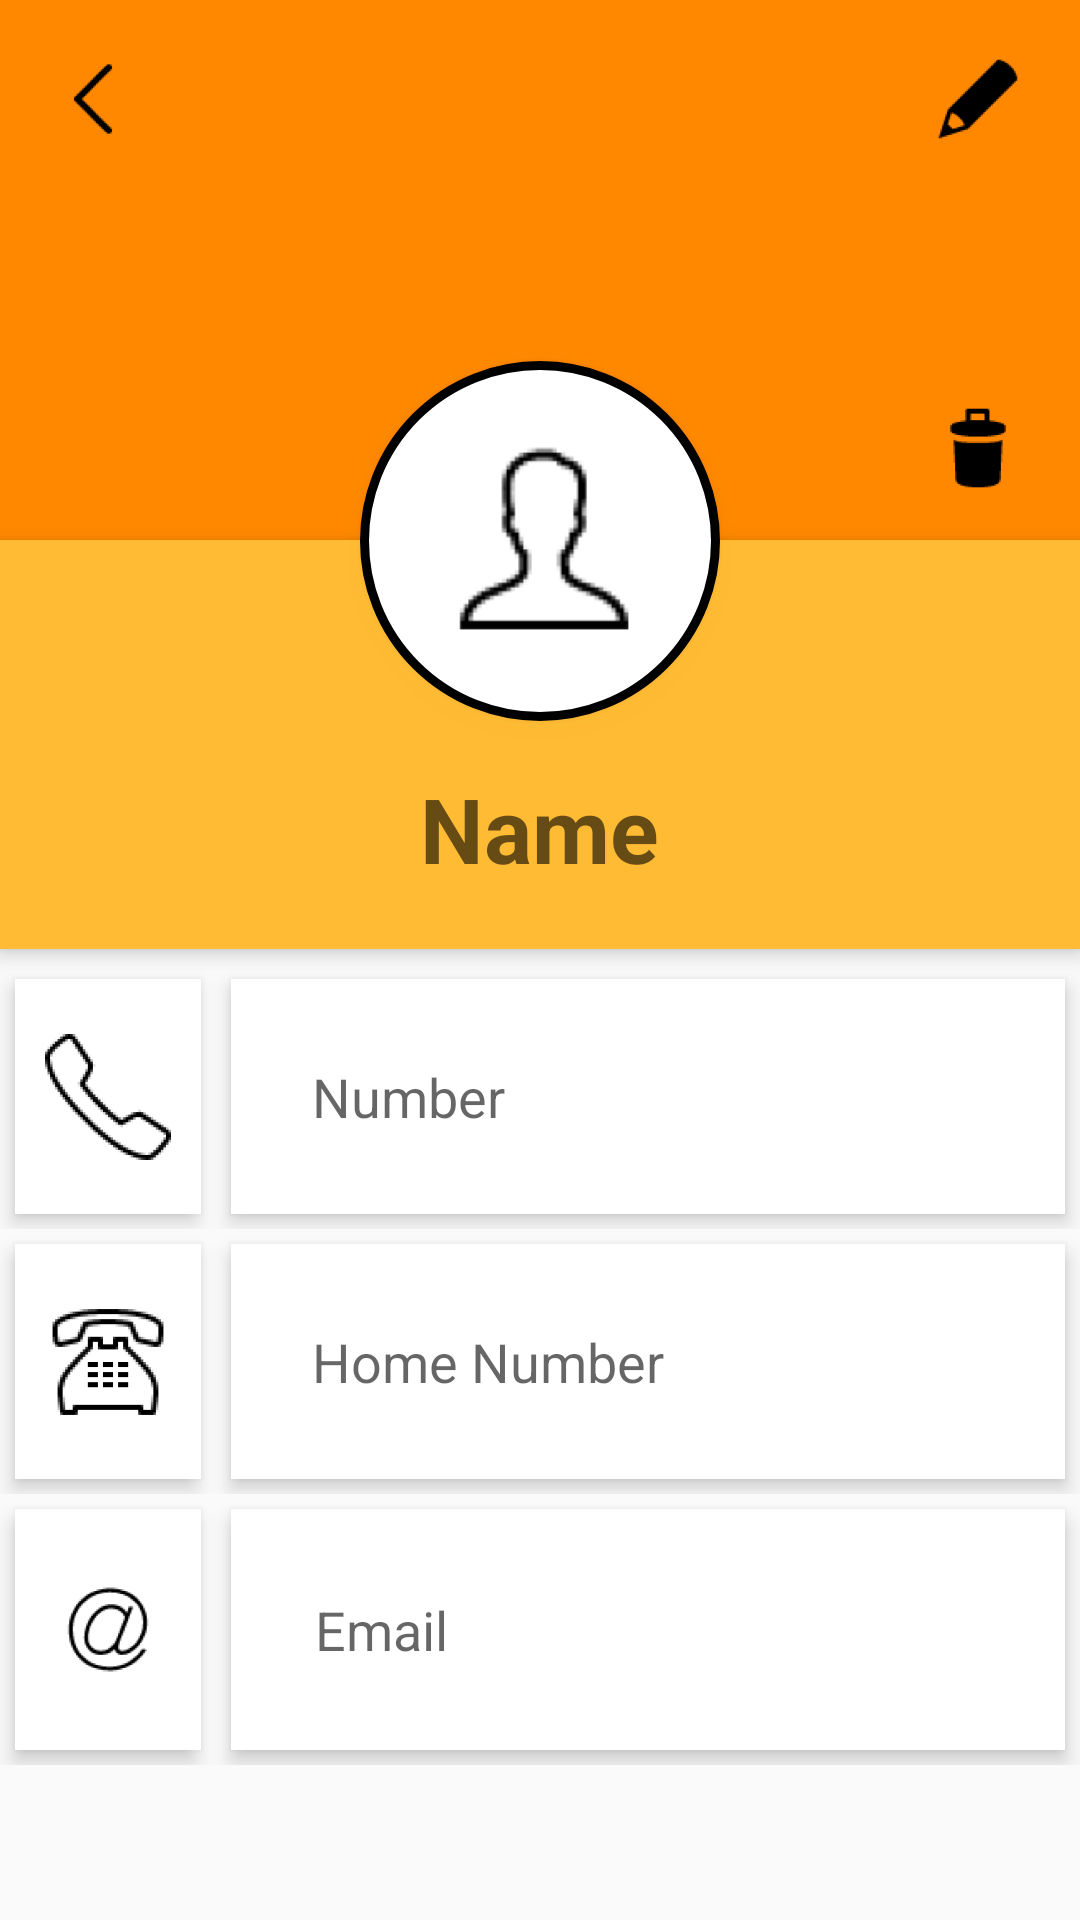

Icons on this 1080*1920 Android screen, each with the point to tap as [x,y]:
backpage: [93,99]
contact: [540,541]
deletefin: [978,448]
homephone: [108,1361]
loadphone: [108,1096]
pencil: [978,99]
